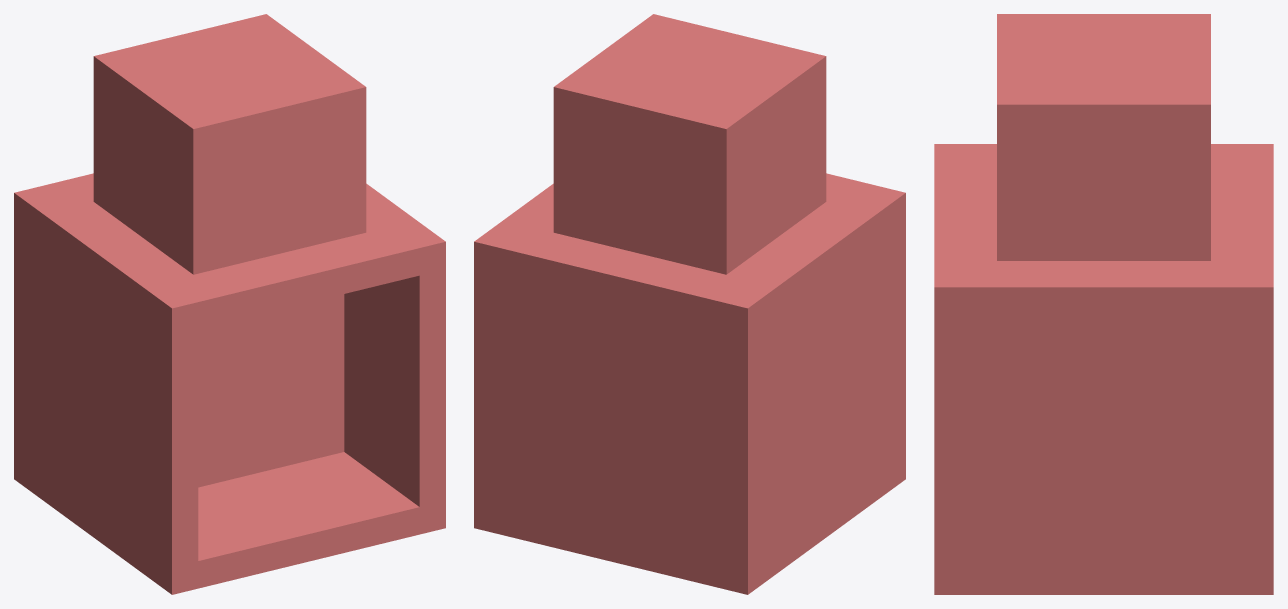
File: mori_model_03.fbx
3 views of the same model, side by side, from view 1: azimuth 30°, elevation 25°; view 2: azimuth 150°, elevation 25°; view 3: azimuth 270°, elevation 25° (orthographic). The views are drawn at different scales.
Visible parts, largest first — view 1: pCube1; view 2: pCube1; view 3: pCube1.
Boxes of the visible parts, x1=… form: pCube1: x1=14, y1=14, x2=445, y2=594; pCube1: x1=474, y1=14, x2=905, y2=594; pCube1: x1=934, y1=14, x2=1273, y2=594.
Size of the model in its own units: 1 by 1.51 by 1.
